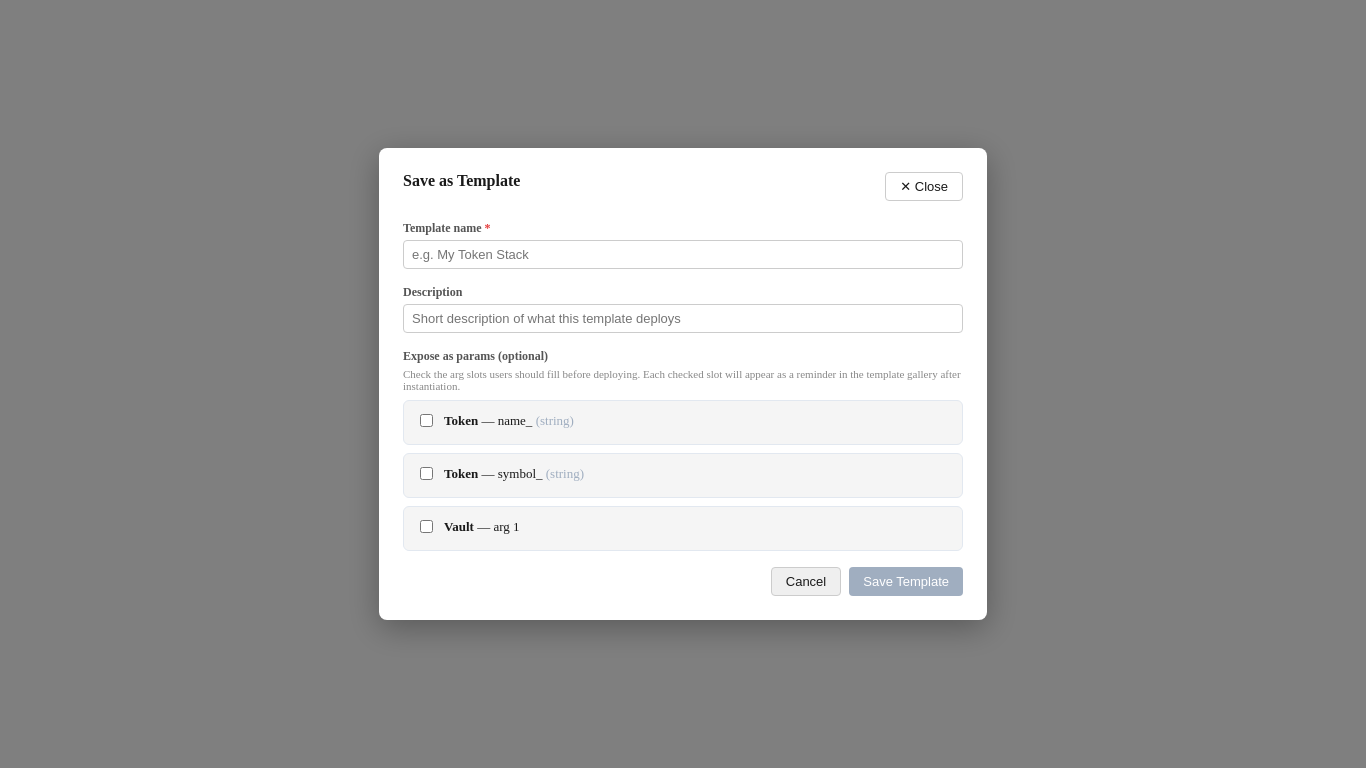
Test case: SaveTemplateModal — confirm disabled when name is empty › confirm button is enabled after entering a name
In the field with test id "save-template-name": (683, 254) [403,240,963,269], type "My Template"
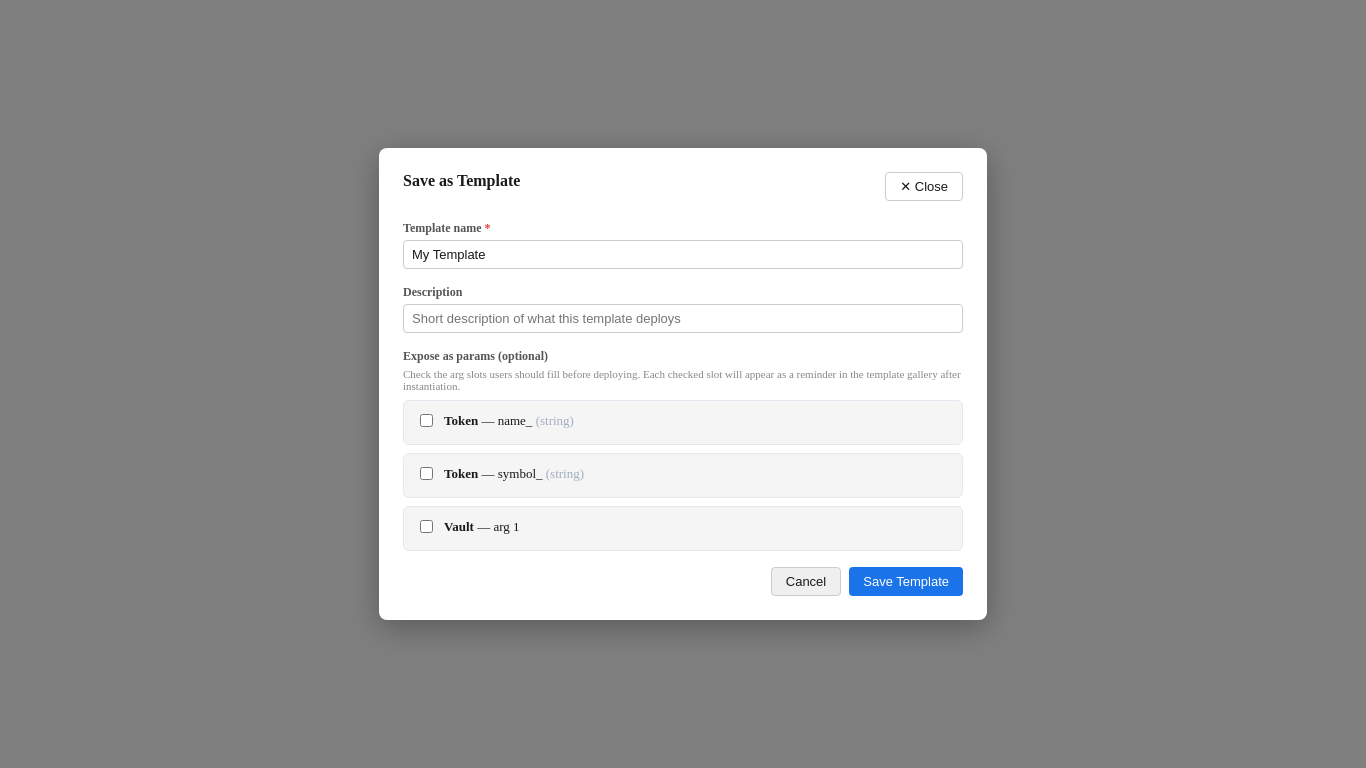
Check: the button with test id "save-template-confirm" is enabled, box [849,567,963,596]
